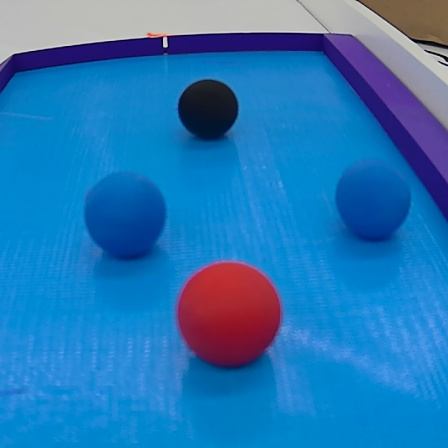black: (174, 78, 244, 144)
blue: (81, 173, 168, 263), (334, 156, 415, 246)
blue_aim: (1, 28, 448, 448)
red: (174, 257, 284, 368)
